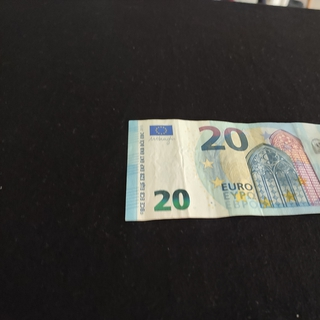20EUROFront: (124, 117, 320, 223)
